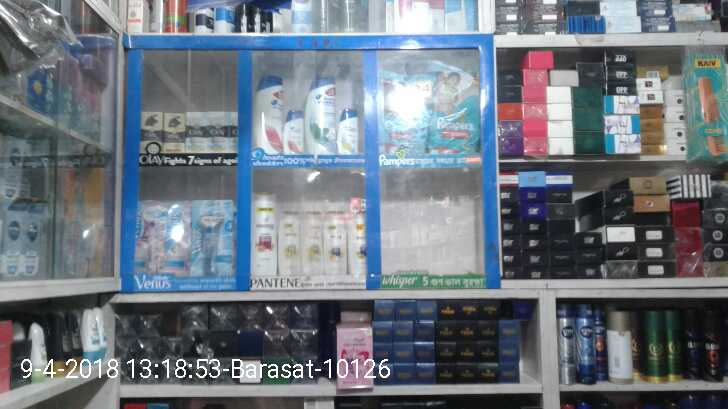venus: (135, 198, 186, 275), (191, 198, 231, 275)
